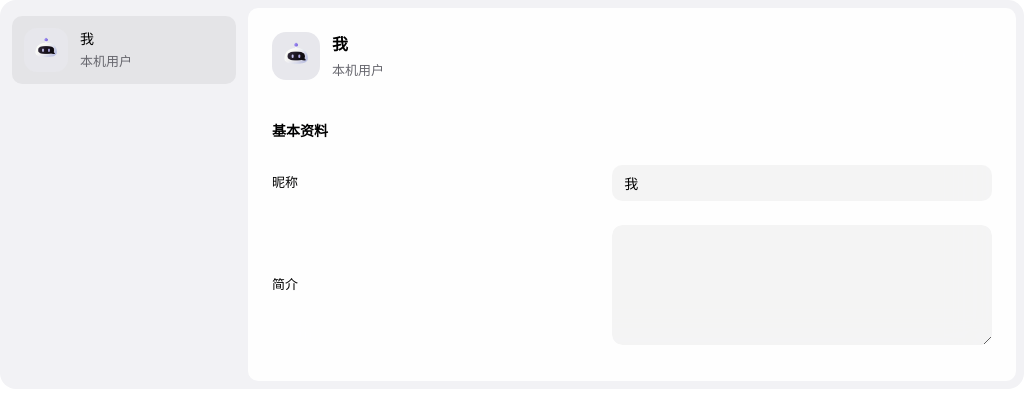
Test: 直接应用用户资料 › 点击头像展开菜单，更换成功立即应用，恢复默认需确认
Later steps or results of the test are not shown.
Expected: the field labelled "昵称" is shown, top-left (612, 165), bottom-right (992, 201)
Click the button named "切换头像" at (296, 56), box top-left (272, 32), bottom-right (320, 80)
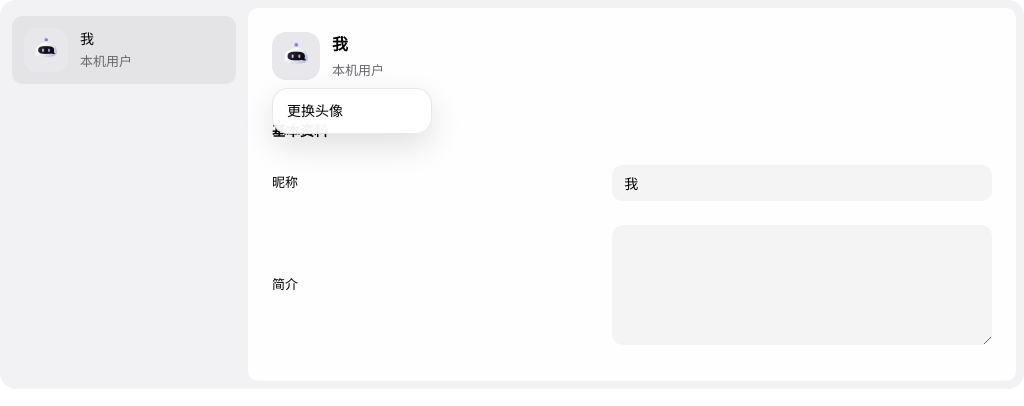
Expected: the menu item "更换头像" is shown, top-left (287, 101), bottom-right (343, 120)
